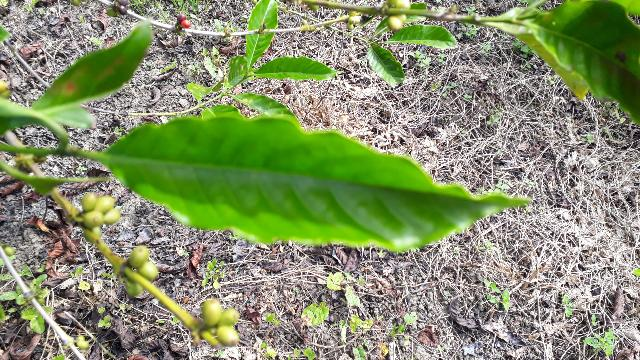healthy: (92, 111, 546, 257)
